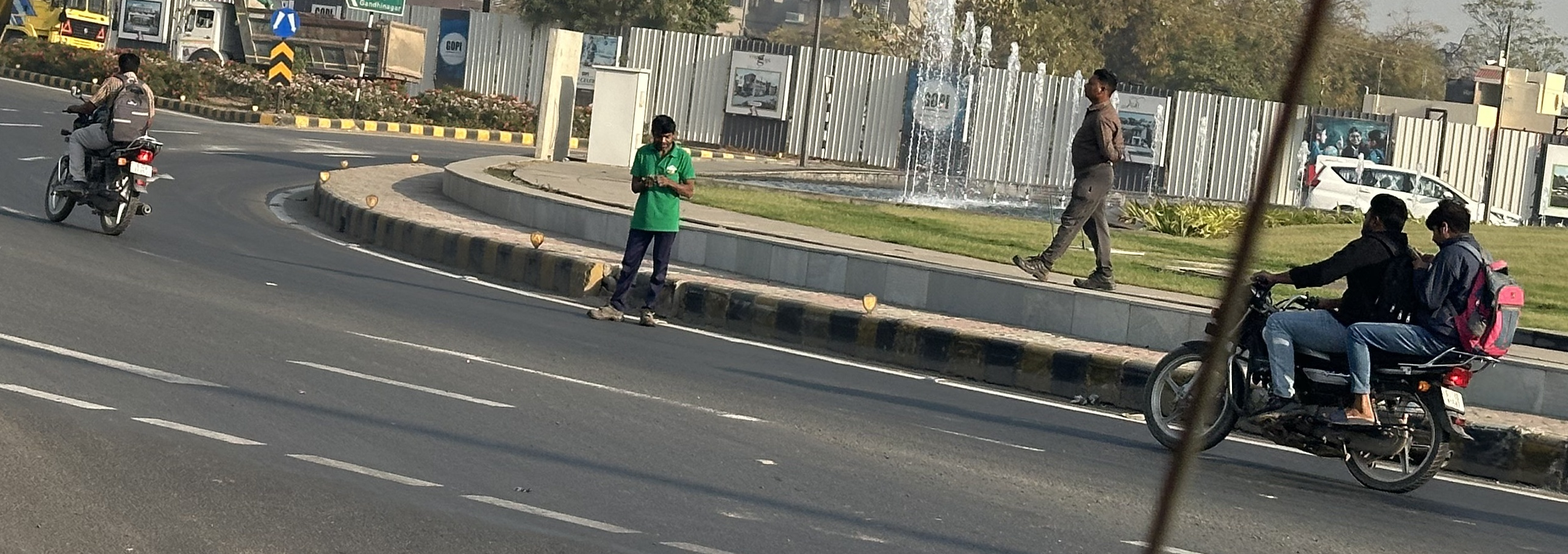BikeWithRider: (1140, 182, 1528, 499), (32, 43, 162, 243)
NoHelmet: (1353, 189, 1410, 237), (1425, 194, 1471, 247), (114, 49, 145, 77)
